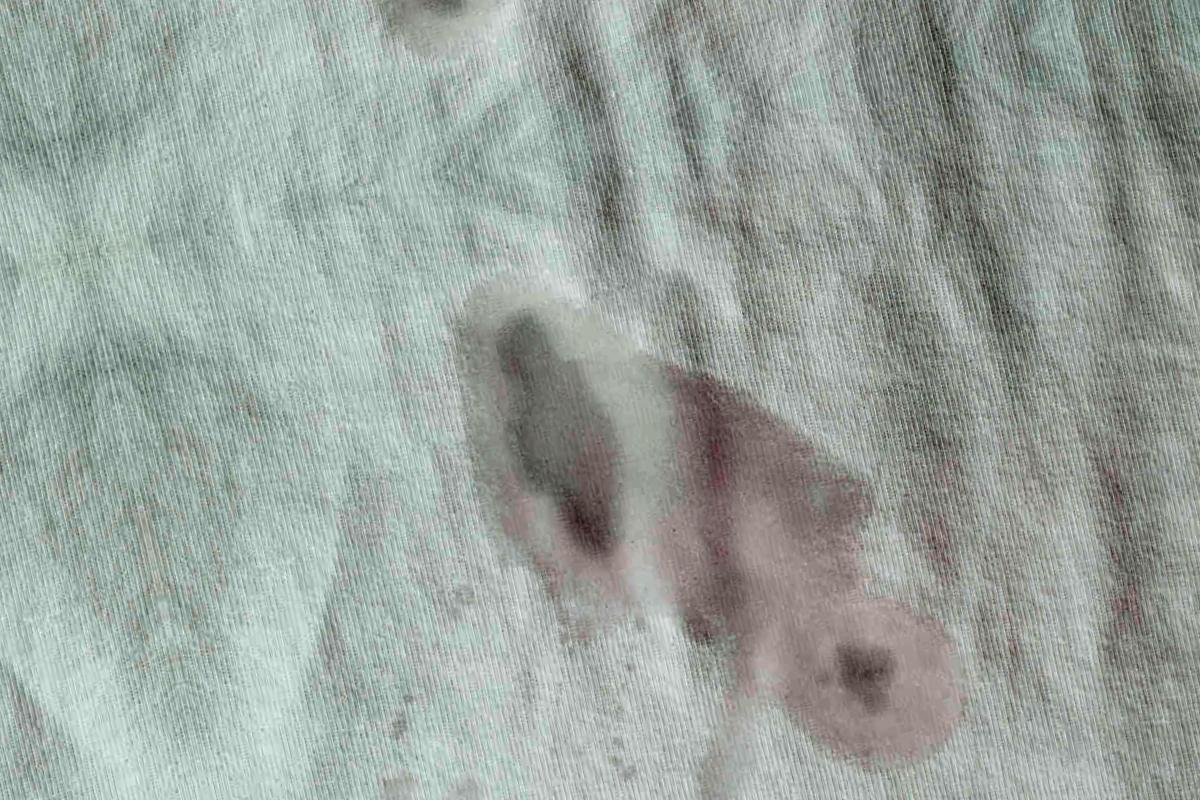stain: (442, 249, 1000, 777), (349, 0, 543, 84)
